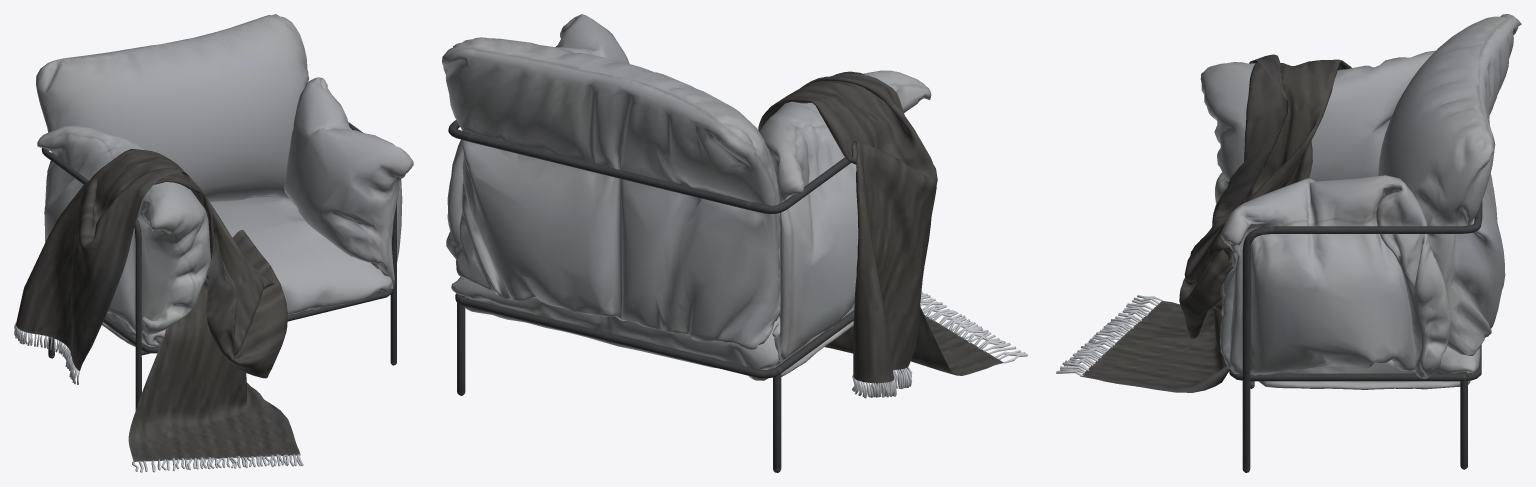
Rendered from armchair.glb.
3 renders of one model, left to right at view 1: azimuth 30°, elevation 25°; view 2: azimuth 150°, elevation 25°; view 3: azimuth 270°, elevation 25°, orthographic. The views are drawn at different scales.
Visible parts, largest first — view 1: Cloth_LP, Pillow_Back_LP, Pillows_Side_LP, Pillow_Seat_LP, Base_METAL, Cloth_End; view 2: Pillow_Back_LP, Cloth_LP, Pillows_Side_LP, Base_METAL, Pillow_Seat_LP, Cloth_End; view 3: Pillows_Side_LP, Pillow_Back_LP, Cloth_LP, Base_METAL, Pillow_Seat_LP, Cloth_End.
Part boxes in pixels (x1,y1,x2,y2): Cloth_LP: (16,149,300,461); Pillow_Back_LP: (36,14,309,202); Pillows_Side_LP: (37,77,413,335); Pillow_Seat_LP: (102,197,391,346); Base_METAL: (41,122,396,410); Cloth_End: (14,322,303,472); Pillow_Back_LP: (442,37,780,349); Cloth_LP: (758,71,1003,383); Pillows_Side_LP: (446,14,931,361); Base_METAL: (448,45,908,472); Pillow_Seat_LP: (451,277,854,380); Cloth_End: (852,292,1027,398); Pillows_Side_LP: (1200,50,1450,378); Pillow_Back_LP: (1378,14,1521,355); Cloth_LP: (1080,54,1351,392); Base_METAL: (1229,201,1482,472); Pillow_Seat_LP: (1220,268,1480,389); Cloth_End: (1056,295,1162,376).
Size of the model in its own units: 1.03 by 0.7996 by 1.02.
1 material, 1 textured.
